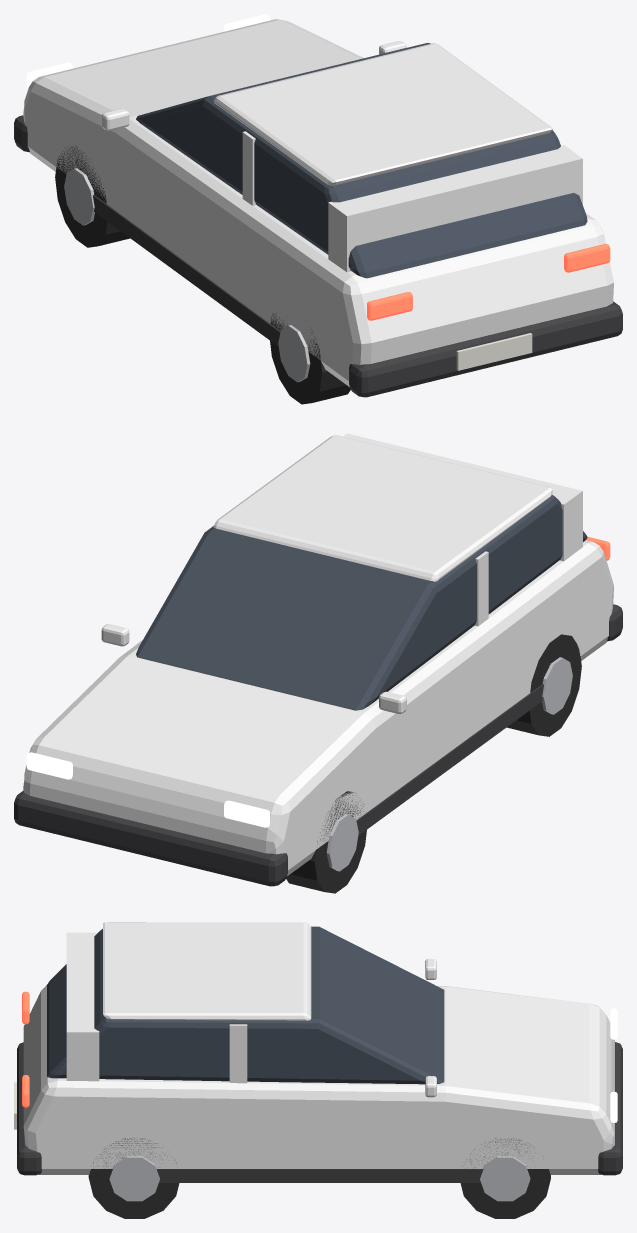
File: car_hatch.glb
3 renders of one model, top to bottom at view 1: azimuth 30°, elevation 25°; view 2: azimuth 150°, elevation 25°; view 3: azimuth 270°, elevation 25°, orthographic. The views are drawn at different scales.
Visible parts, largest first — view 1: car; view 2: car; view 3: car.
Boxes of the visible parts, x1,y1,x2,y2 form: car: (14, 14, 622, 404); car: (14, 433, 622, 893); car: (14, 922, 622, 1218).
Bounding box in the file's own units: 2.03 × 1.46 × 4.11.
